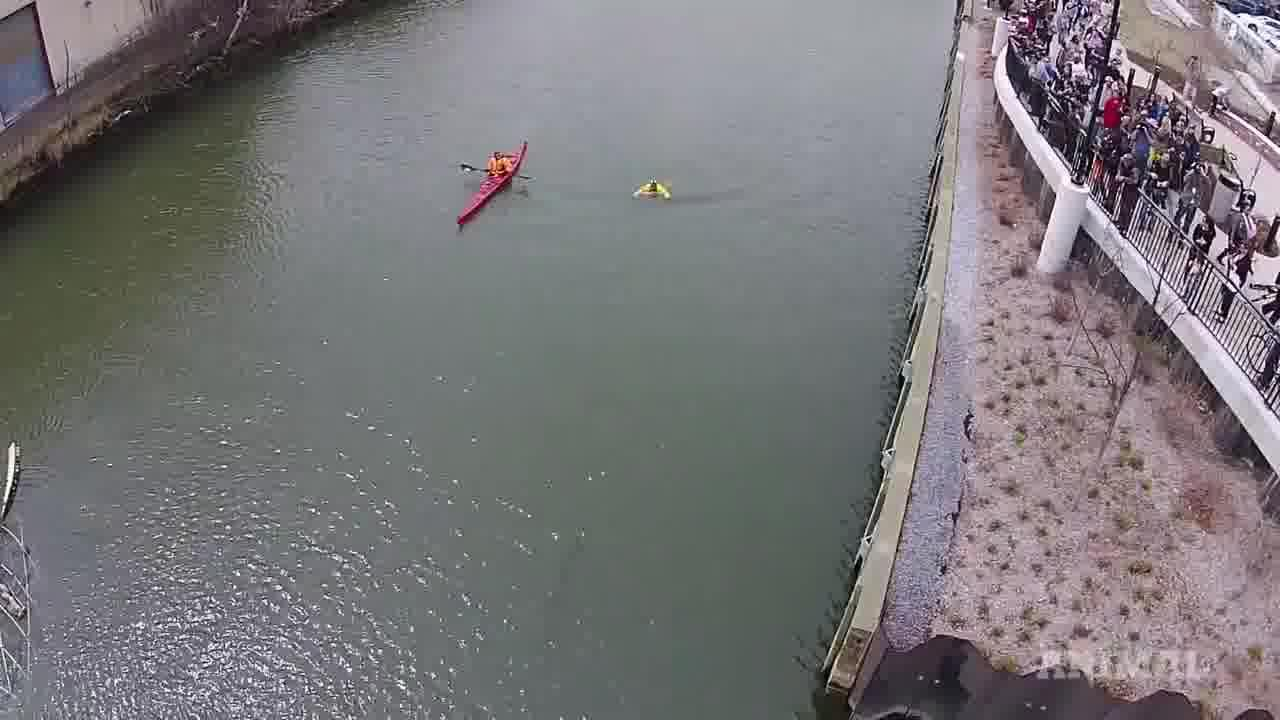swimmer: (632, 165, 673, 215)
